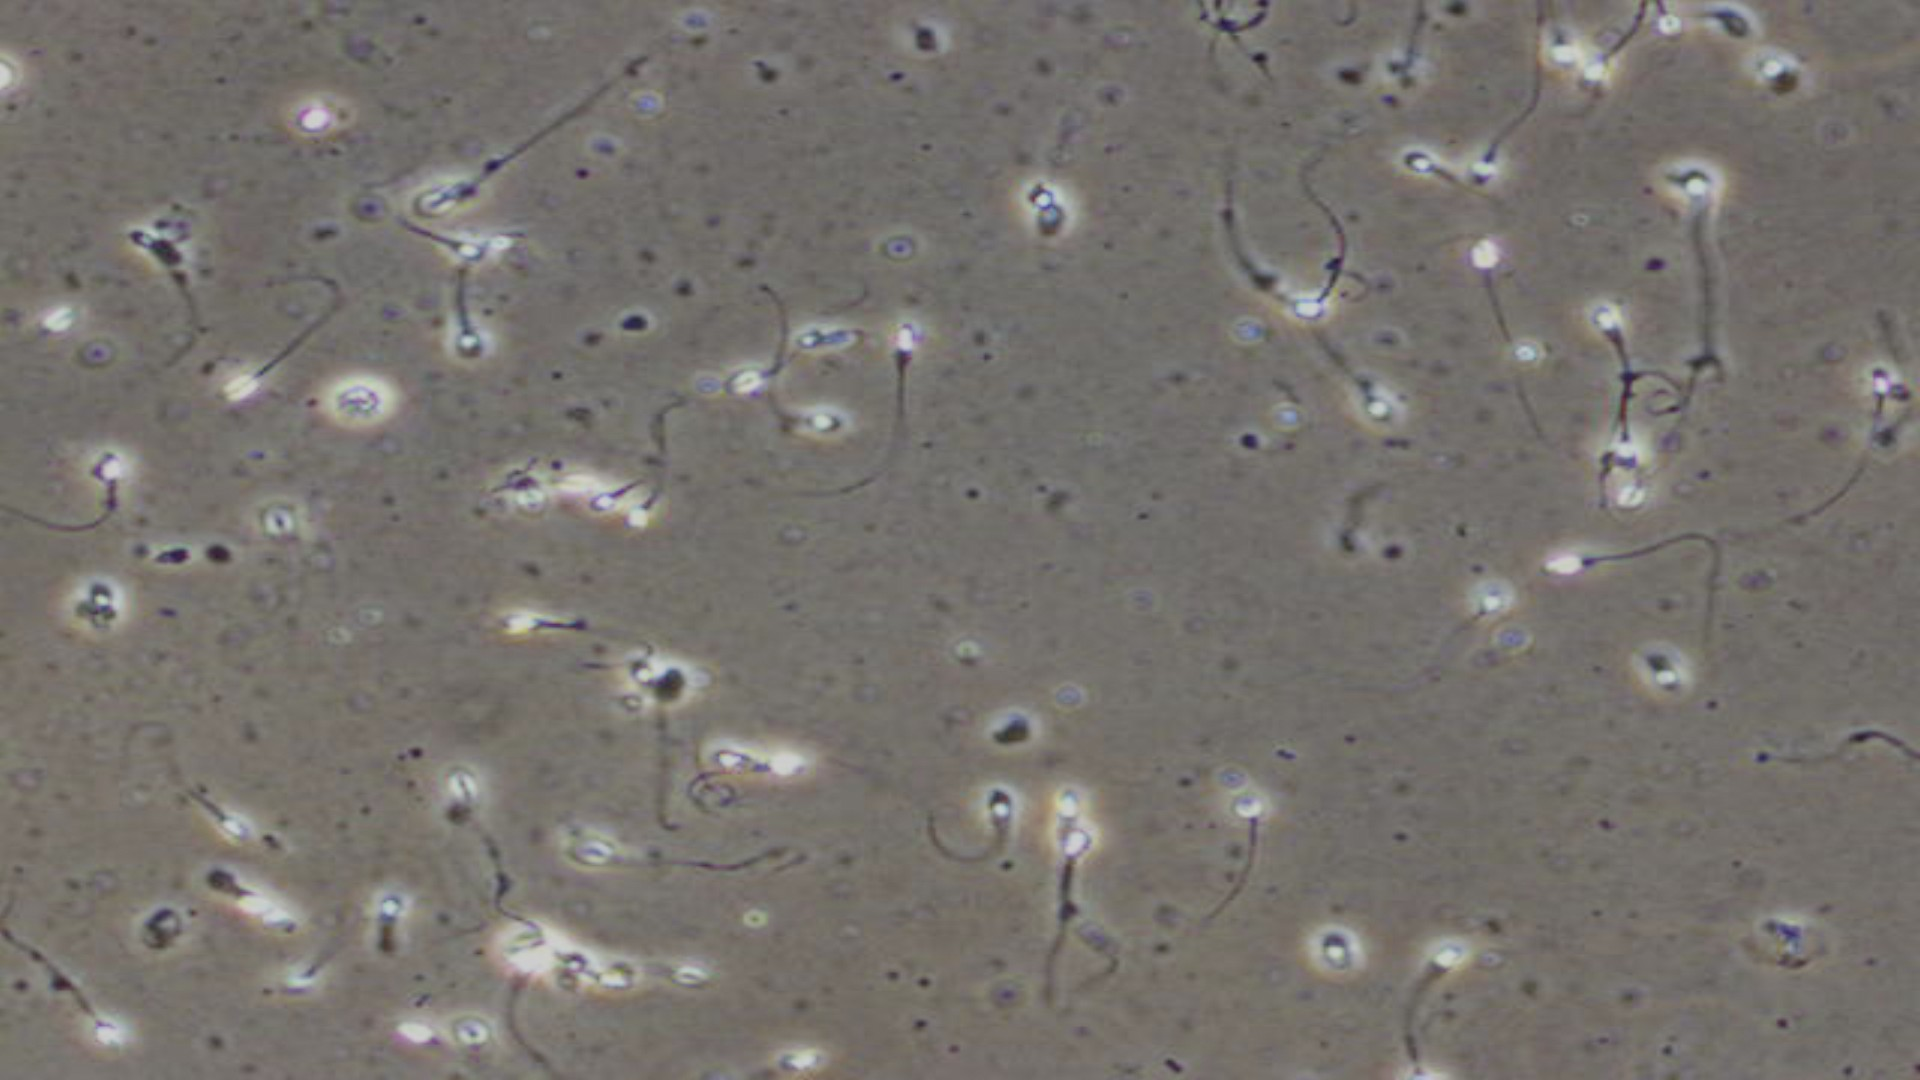sperm: (4, 928, 132, 1067), (1159, 793, 1280, 928), (1374, 934, 1484, 1064), (11, 442, 131, 549), (858, 309, 942, 460), (203, 336, 324, 419), (1458, 88, 1545, 189), (927, 789, 1021, 880), (504, 603, 642, 663), (1236, 262, 1345, 336), (1663, 166, 1727, 286), (717, 298, 790, 400), (1455, 229, 1534, 320), (629, 421, 692, 534), (1575, 295, 1650, 382), (1534, 531, 1638, 593), (1578, 9, 1648, 99), (177, 779, 262, 847), (435, 285, 502, 367), (1855, 360, 1896, 489), (1040, 827, 1092, 914), (396, 224, 496, 261), (1345, 368, 1400, 419), (1399, 152, 1455, 195)
